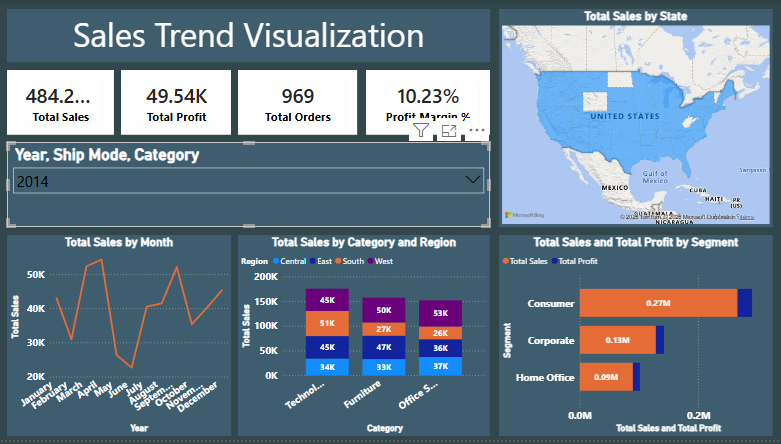

This screenshot's page, from the dashboard's own definition file:
{"tool":"powerbi","page":{"name":"Page 1","canvas":[1280,720],"ordinal":0},"visuals":[{"type":"cardVisual","fields":{"Data":["Superstore_Cleaned.Total Sales"]},"box":[13.4,114.2,174.7,105.8],"z":0},{"type":"cardVisual","fields":{"Data":["Superstore_Cleaned.Total Profit"]},"box":[199.7,114.6,180.1,106.4],"z":1000},{"type":"cardVisual","fields":{"Data":["Superstore_Cleaned.Total Orders"]},"box":[391.2,114.6,194.8,106.4],"z":2000},{"type":"cardVisual","fields":{"Data":["Superstore_Cleaned.Profit Margin %"]},"box":[600.7,114.6,203,106.4],"z":3000},{"type":"lineChart","fields":{"Category":["Superstore_Cleaned.Order Date.Variation.Date Hierarchy.Month"],"Y":["Superstore_Cleaned.Total Sales"]},"box":[13.1,384.7,366.6,329],"z":4000},{"type":"columnChart","fields":{"Category":["Superstore_Cleaned.Category"],"Y":["Superstore_Cleaned.Total Sales"],"Series":["Superstore_Cleaned.Region"]},"box":[391.2,384.7,412.5,329],"z":4001},{"type":"filledMap","fields":{"Category":["Superstore_Cleaned.State","Superstore_Cleaned.City"]},"box":[818.4,14.7,448.5,356.8],"z":4002},{"type":"barChart","fields":{"Category":["Superstore_Cleaned.Segment"],"Y":["Superstore_Cleaned.Total Sales","Superstore_Cleaned.Total Profit"]},"box":[818.4,384.7,448.5,329],"z":4003},{"type":"slicer","fields":{"Values":["Superstore_Cleaned.Year","Superstore_Cleaned.Ship Mode","Superstore_Cleaned.Category"]},"box":[13.1,232.4,790.6,139.1],"z":4004},{"type":"textbox","box":[13.1,14.7,790.6,86.8],"z":4005}]}

Visuals, with their boxes in screenshot pixels (x1, y1, x2, y2), scaled from the page's 1280x720 canvas onto the 781x444 screenshot:
cardVisual - Superstore_Cleaned.Total Sales: BBox(8, 70, 115, 136)
cardVisual - Superstore_Cleaned.Total Profit: BBox(122, 71, 232, 136)
cardVisual - Superstore_Cleaned.Total Orders: BBox(239, 71, 358, 136)
cardVisual - Superstore_Cleaned.Profit Margin %: BBox(367, 71, 490, 136)
lineChart - Superstore_Cleaned.Order Date.Variation.Date Hierarchy.Month x Superstore_Cleaned.Total Sales: BBox(8, 237, 232, 440)
columnChart - Superstore_Cleaned.Category x Superstore_Cleaned.Total Sales: BBox(239, 237, 490, 440)
filledMap - Superstore_Cleaned.State x Superstore_Cleaned.City: BBox(499, 9, 773, 229)
barChart - Superstore_Cleaned.Segment x Superstore_Cleaned.Total Sales: BBox(499, 237, 773, 440)
slicer - Superstore_Cleaned.Year x Superstore_Cleaned.Ship Mode: BBox(8, 143, 490, 229)
textbox: BBox(8, 9, 490, 63)
